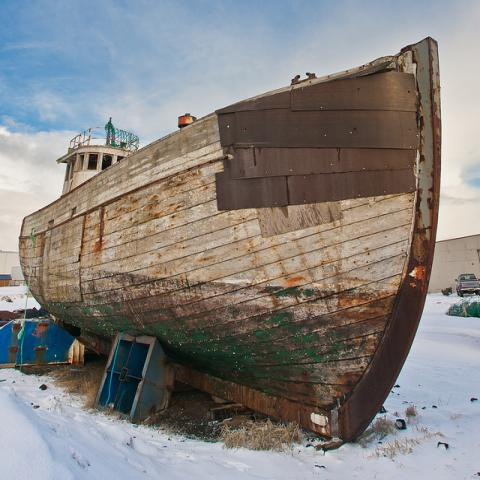truck: (455, 273, 479, 297)
